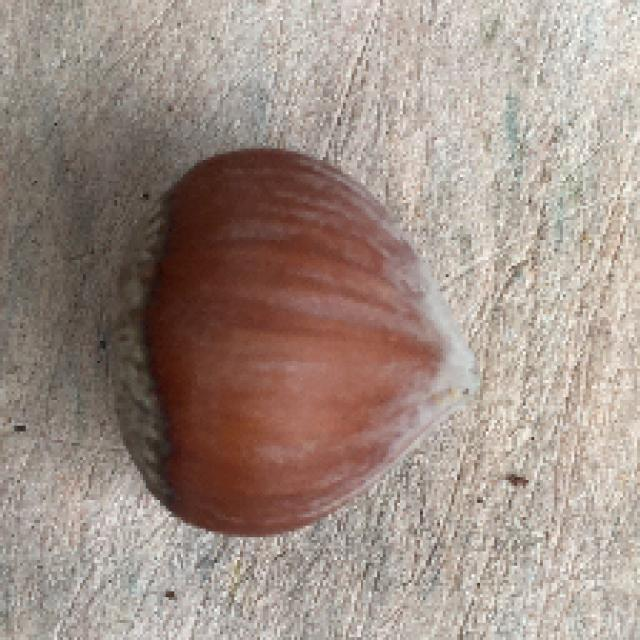qualityHazelnut: (90, 137, 465, 545)
